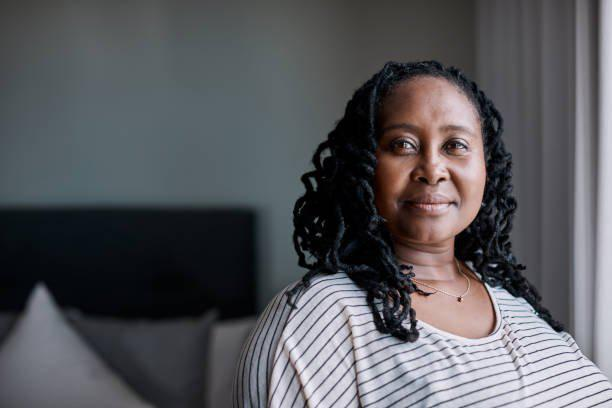Sober: (367, 86, 485, 238)
